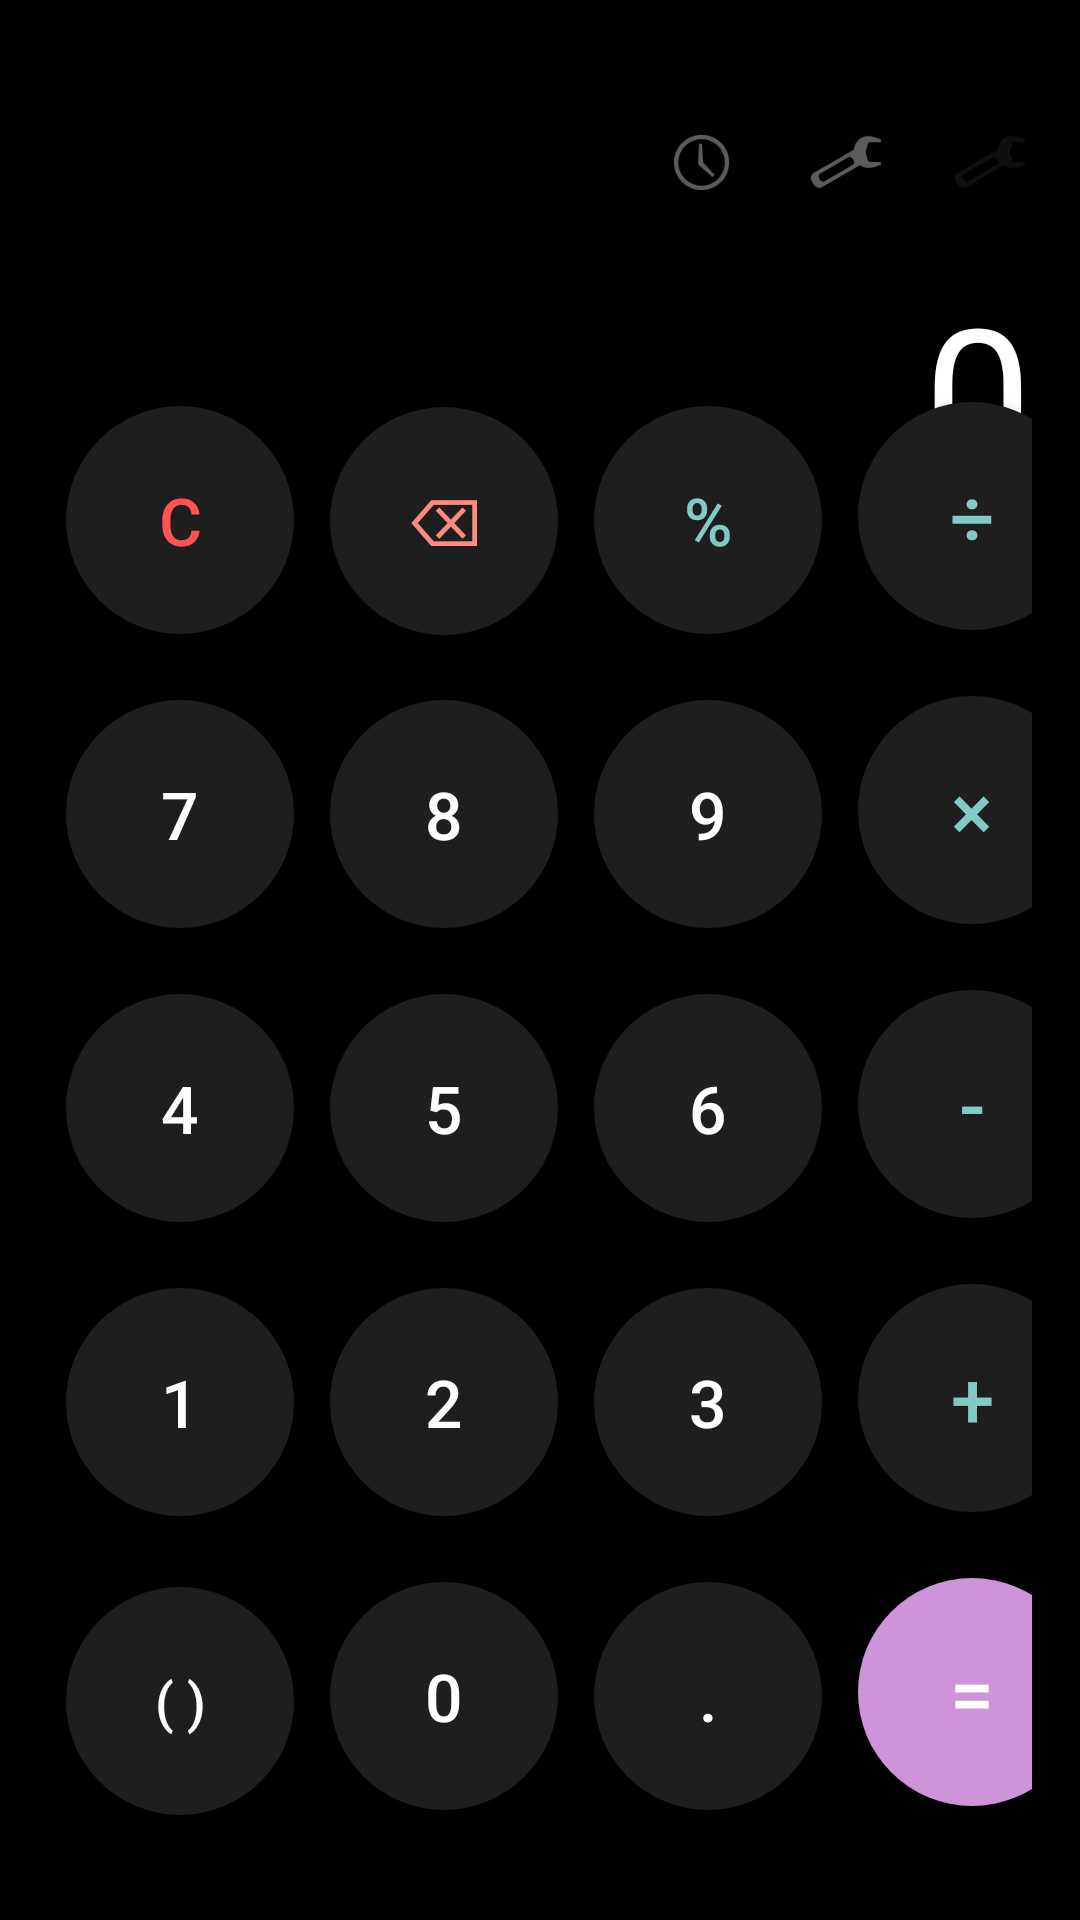

Icons on this 1080x1920 Android screen, each with its box as (x1, y1, x2, y2):
manage: (811, 136, 881, 188)
recent history: (674, 135, 729, 190)
